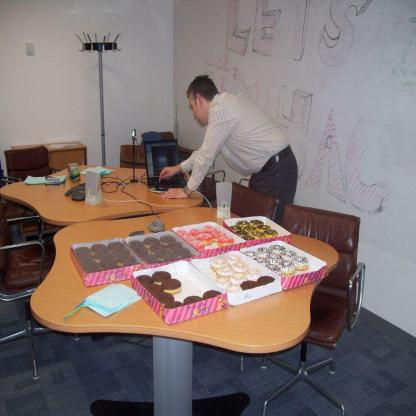board: (142, 141, 189, 190)
